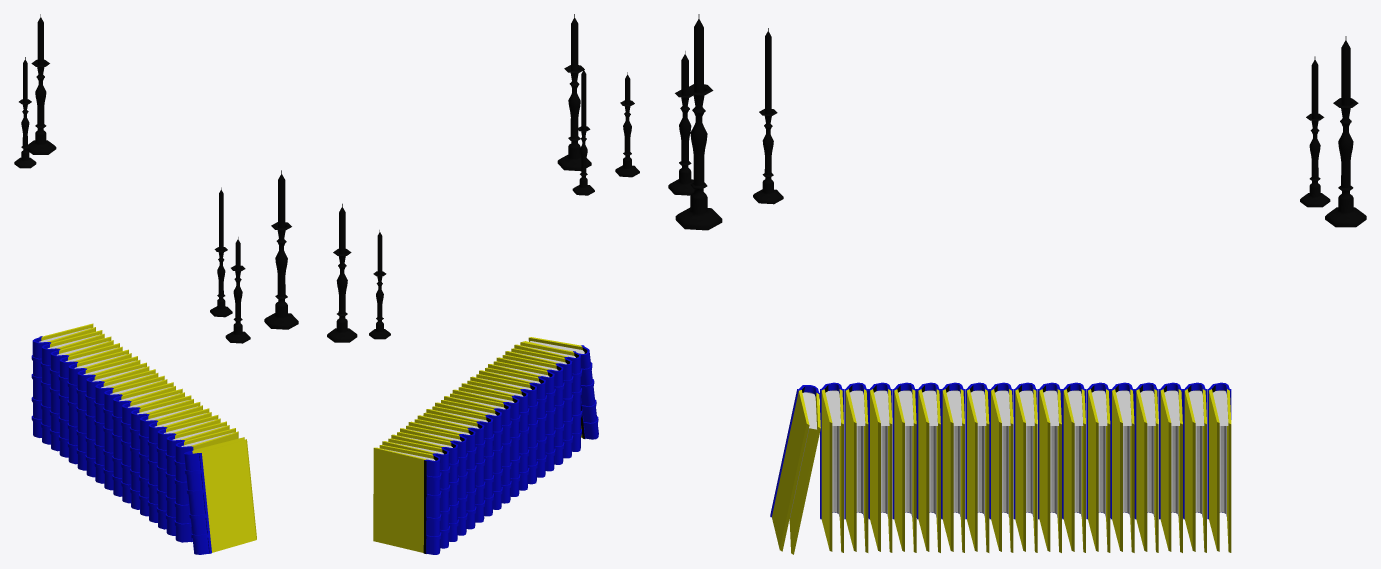
The model's file is SM_Stuffs_001.fbx.
3 views of the same model, side by side, from view 1: azimuth 30°, elevation 25°; view 2: azimuth 150°, elevation 25°; view 3: azimuth 270°, elevation 25° (orthographic). The views are drawn at different scales.
Parts seen in each view (by area): view 1: SmallCabinetStuff_001; view 2: SmallCabinetStuff_001; view 3: SmallCabinetStuff_001.
Part boxes in pixels (left/top/right/bottom): SmallCabinetStuff_001: left=14, top=14, right=298, bottom=554; SmallCabinetStuff_001: left=327, top=14, right=639, bottom=554; SmallCabinetStuff_001: left=668, top=14, right=1366, bottom=554.
Size of the model in its own units: 23.57 by 122 by 145.
